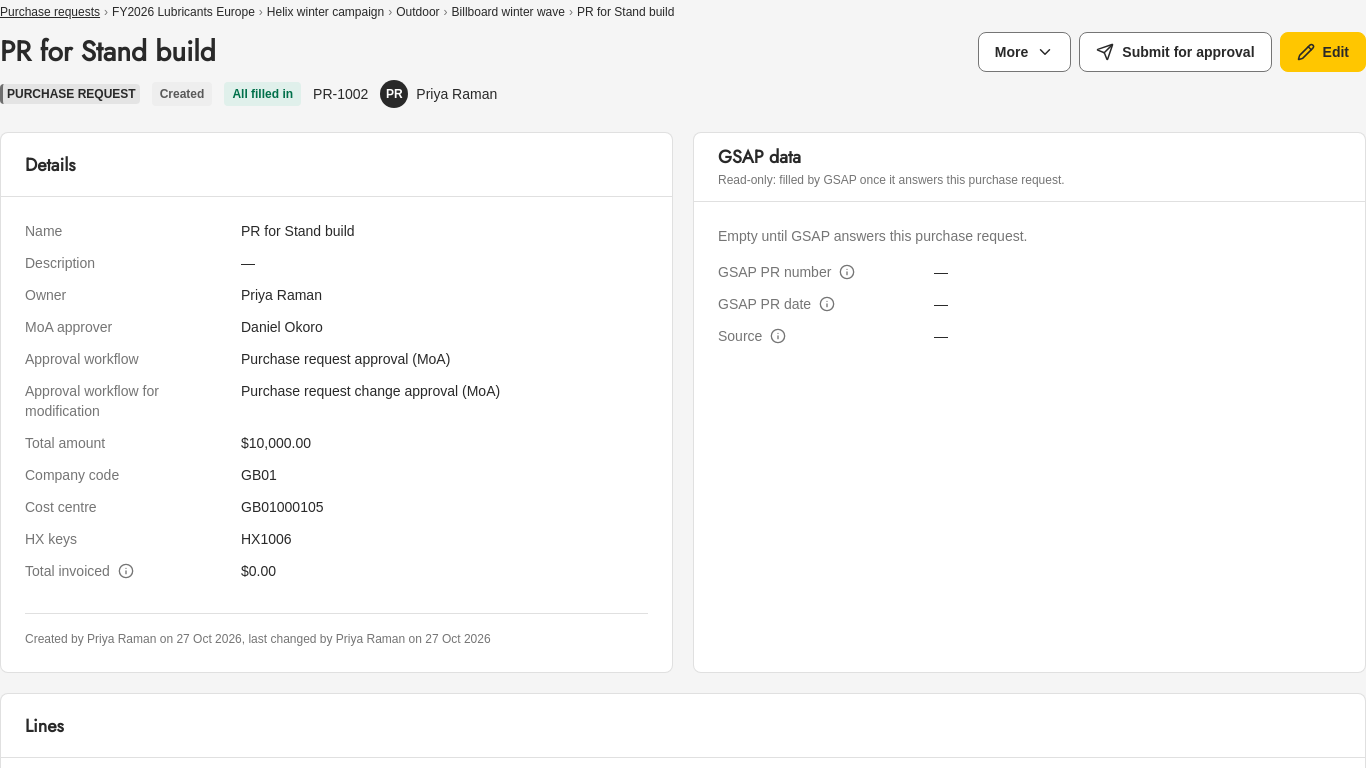
038 FR-013 (H-3): delete a purchase request from its page › lands on Purchase requests with Undo and never asks for the deleted record
The image size is (1366, 768).
Step 1. Click the button "More" → (1025, 52), box [978, 32, 1071, 72]
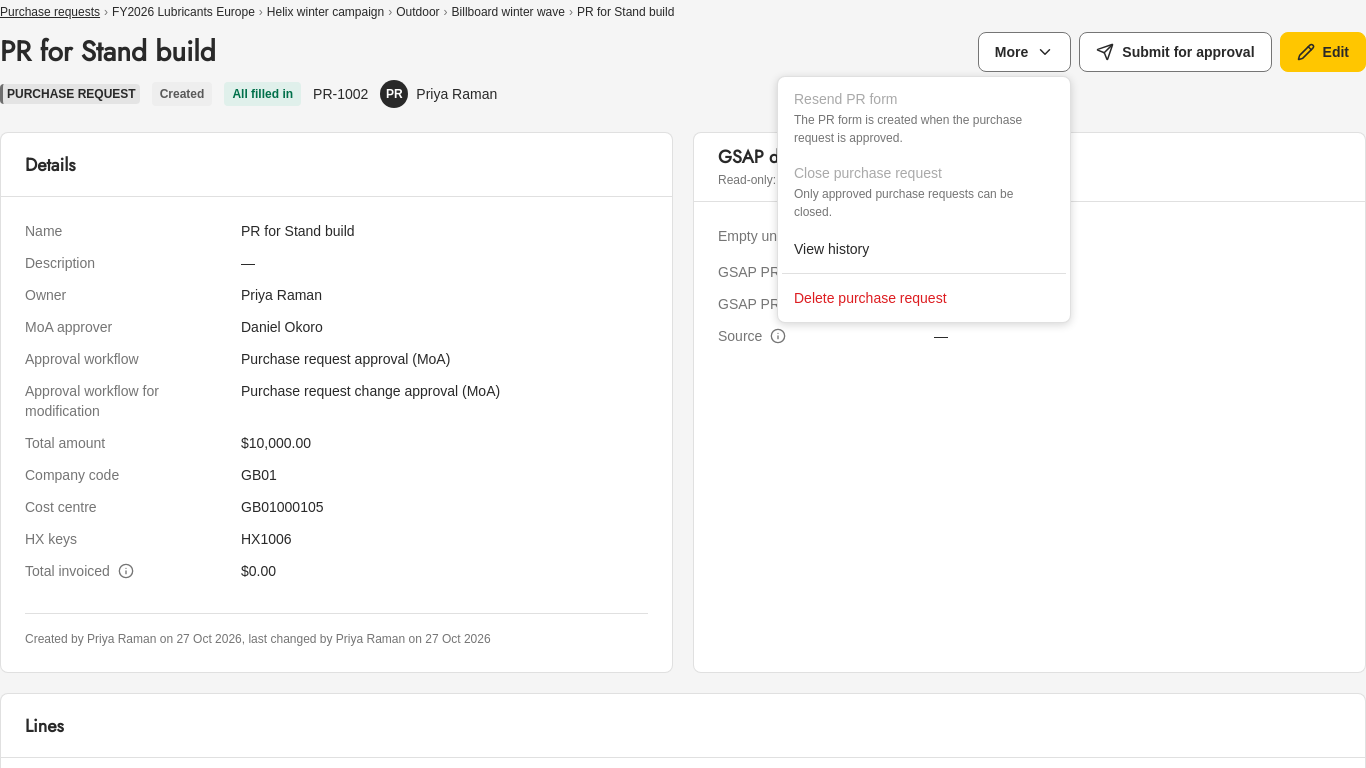
Step 2. Click the menu item "Delete purchase request" → (870, 298), box [794, 290, 946, 306]
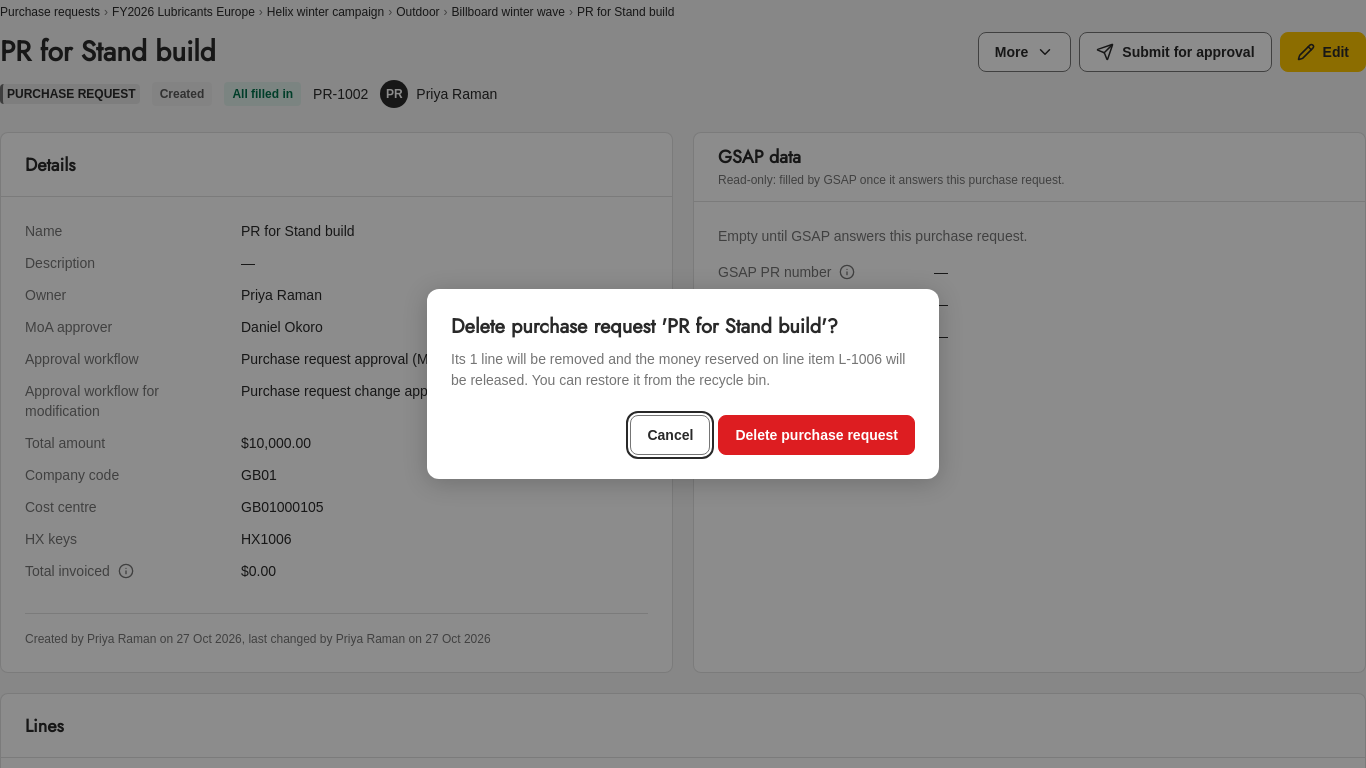
Step 3. Click the button "Delete purchase request" → (817, 435), box [718, 415, 915, 455]
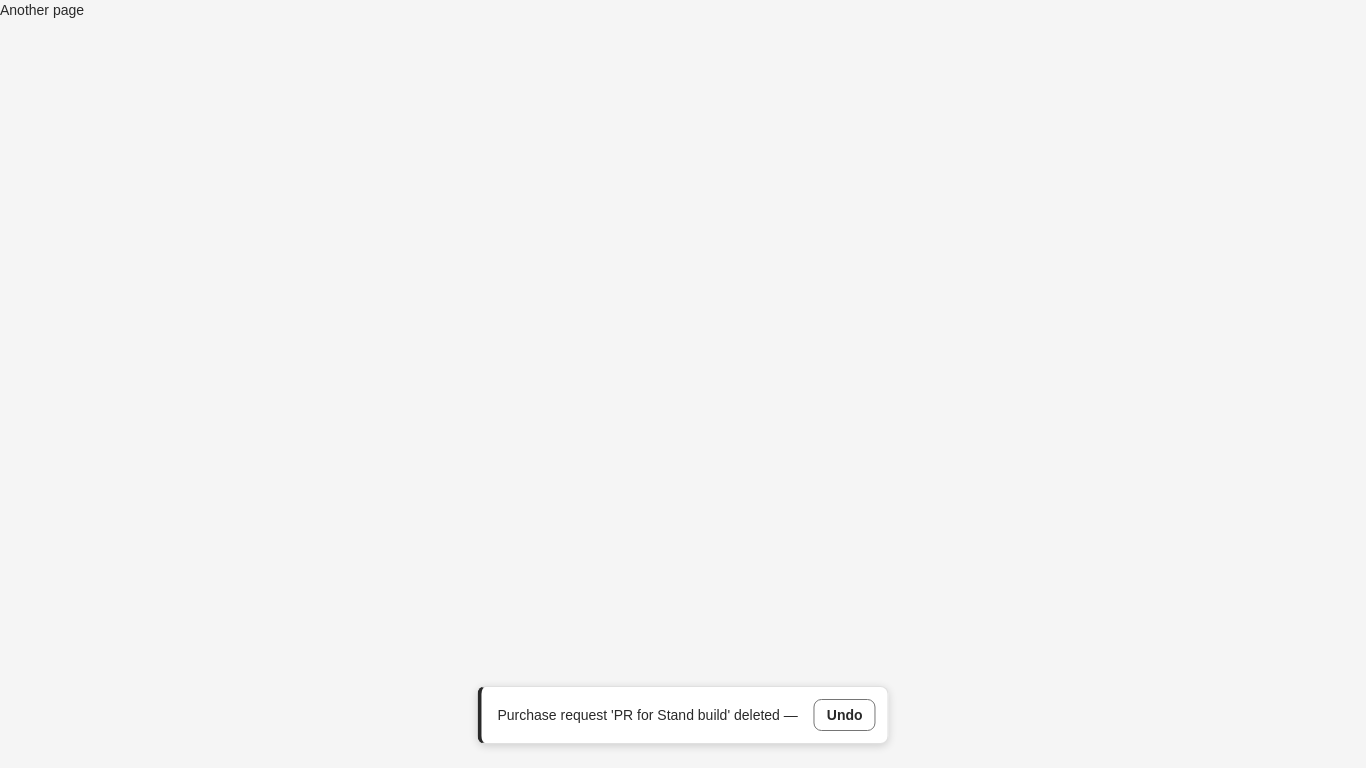
Expected: the button "Undo" is shown, [814, 699, 876, 731]
